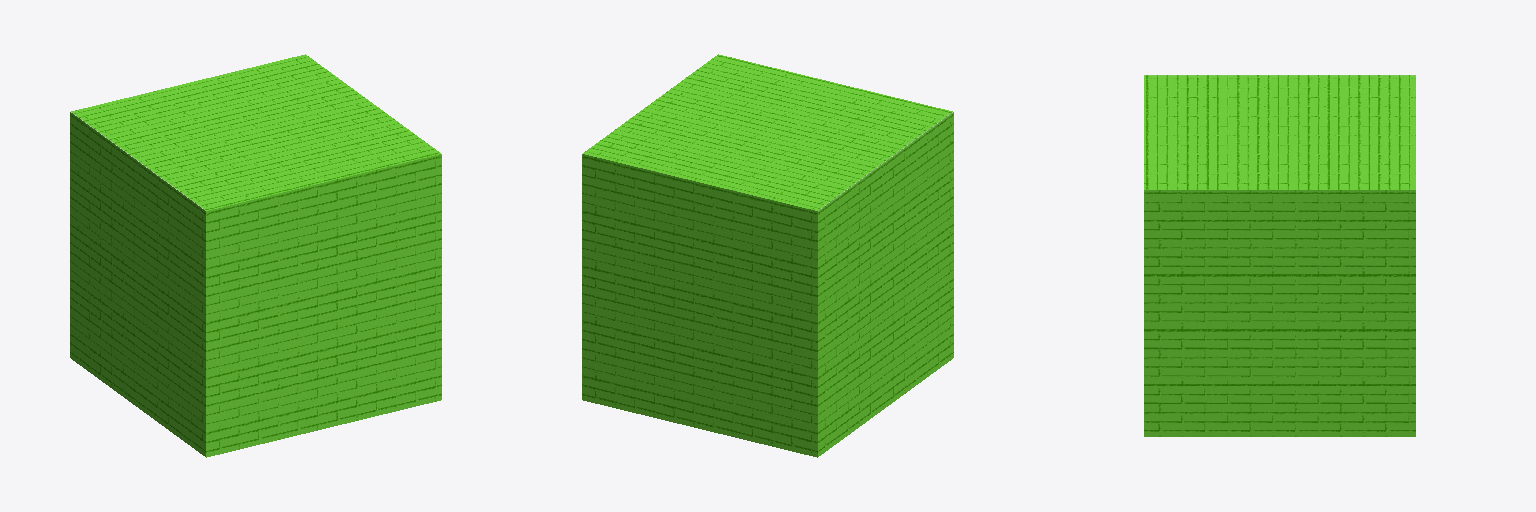
The picture shows the model from 3 angles: view 1: azimuth 30°, elevation 25°; view 2: azimuth 150°, elevation 25°; view 3: azimuth 270°, elevation 25°; orthographic projection.
Visible parts, largest first — view 1: 立方体; view 2: 立方体; view 3: 立方体.
Boxes of the visible parts, <box> form: 立方体: <box>70,54,441,457</box>; 立方体: <box>582,54,953,457</box>; 立方体: <box>1144,75,1415,436</box>.
Size of the model in its own units: 2 by 2 by 2.
Materials: 1 (1 with a texture image).